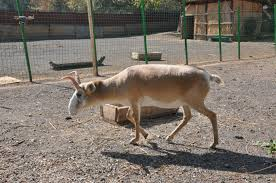saiga: (60, 64, 224, 150)
